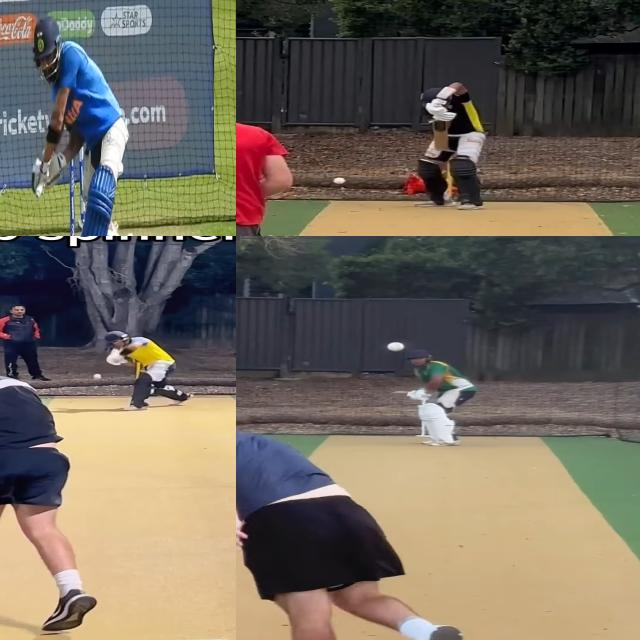Cricket ball: (384, 340, 410, 354), (333, 177, 346, 185), (92, 373, 102, 380)
